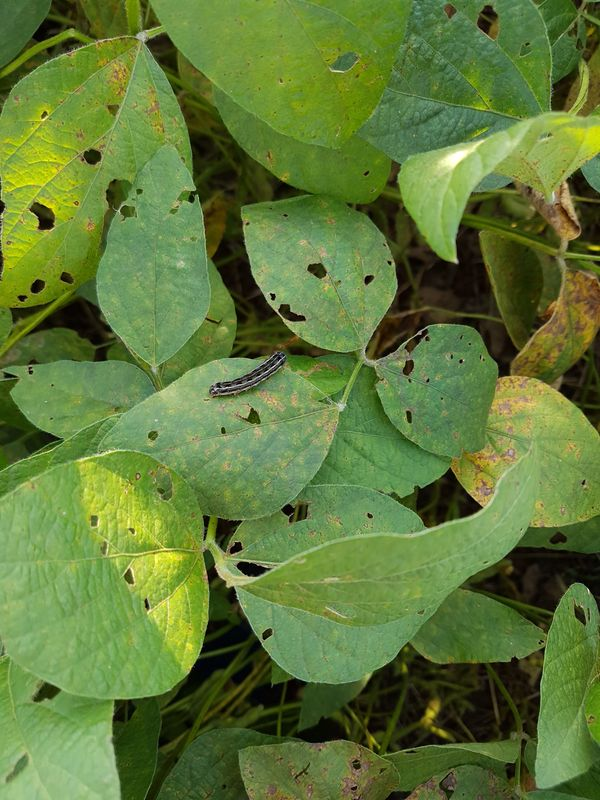Spodoptera_albula: (196, 340, 299, 411)
